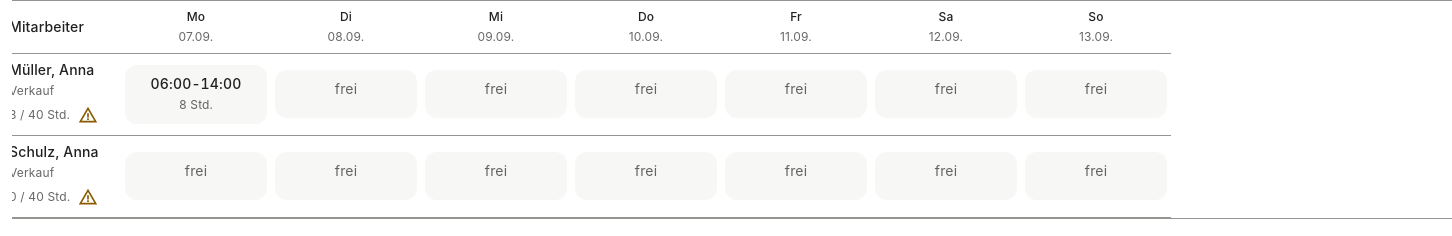
Test case: ScheduleTable › does not show the Soll-deviation tooltip on hover at mobile width - still opens via click (N20)
Hover over the button named "Abweichung von Soll anzeigen" next to "8 / 40 Std." at (88, 115), box [66,93,110,137]
Expected: the text "Std. unter Soll" is not shown
Click the button named "Abweichung von Soll anzeigen" next to "8 / 40 Std.". click: (88, 115)
box: [66,93,110,137]
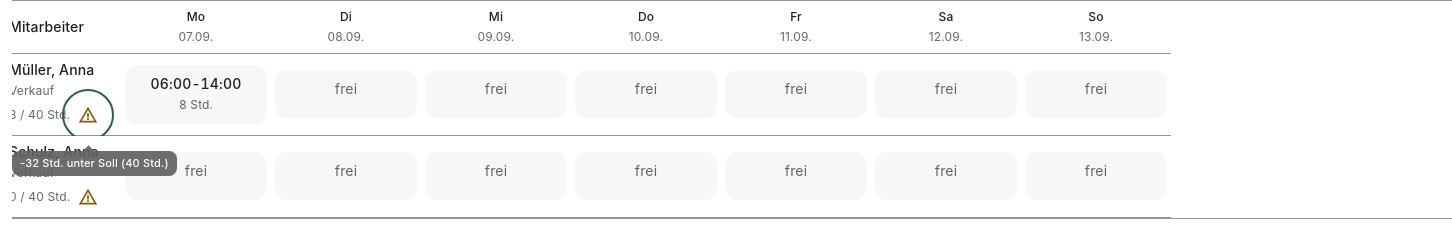
Expected: the text "-32 Std. unter Soll (40 Std.)" is shown, [12,151,177,176]
